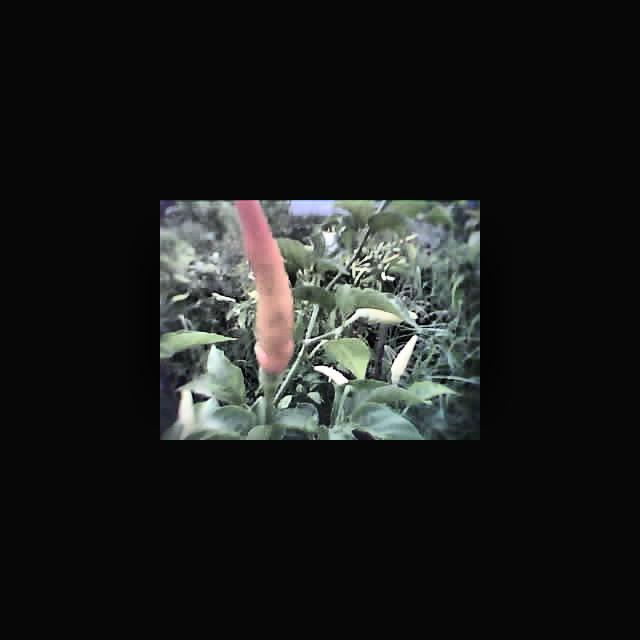Cabai: (238, 203, 297, 381)
